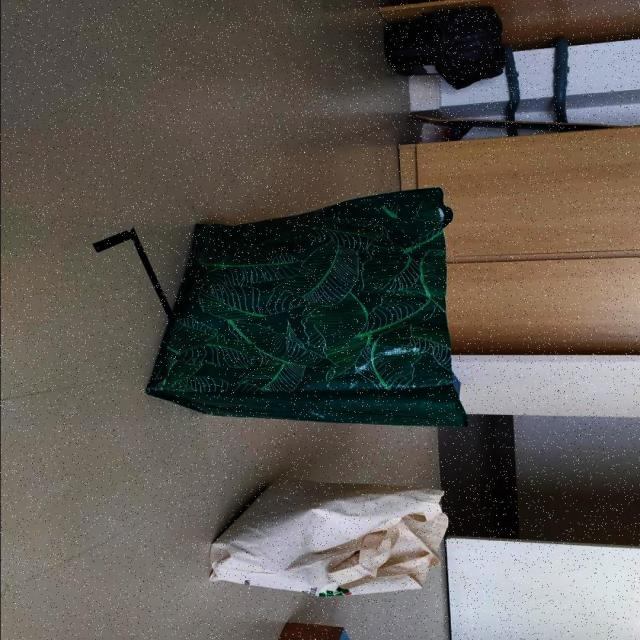Bag: (142, 186, 472, 430), (204, 476, 456, 596)
